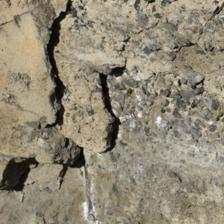Crack: (19, 104, 152, 160), (15, 47, 60, 115), (56, 63, 96, 133)
